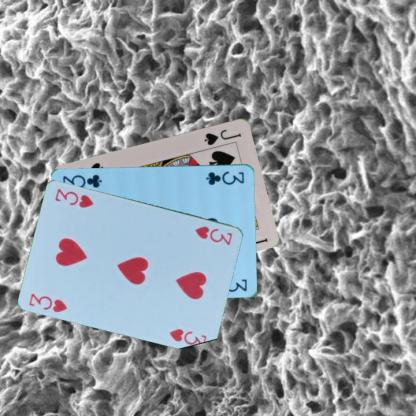3c: (204, 169, 246, 186)
3h: (27, 290, 70, 314), (192, 223, 234, 247)
Js: (202, 126, 242, 146)
